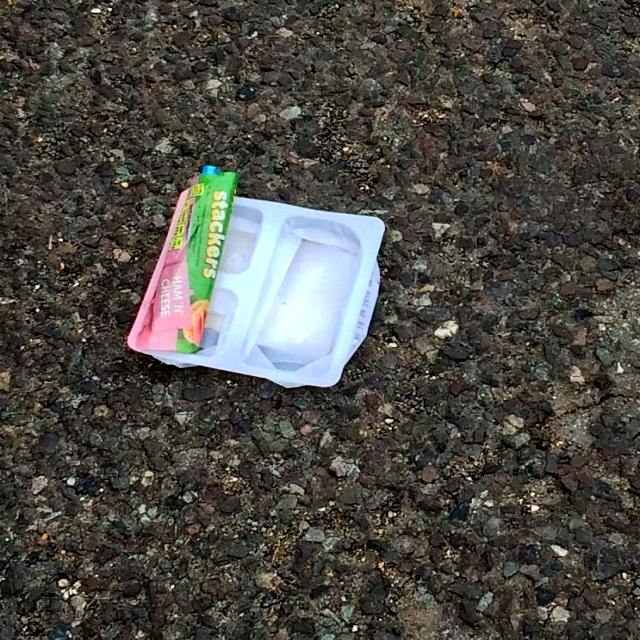Trash: (122, 183, 393, 390)
